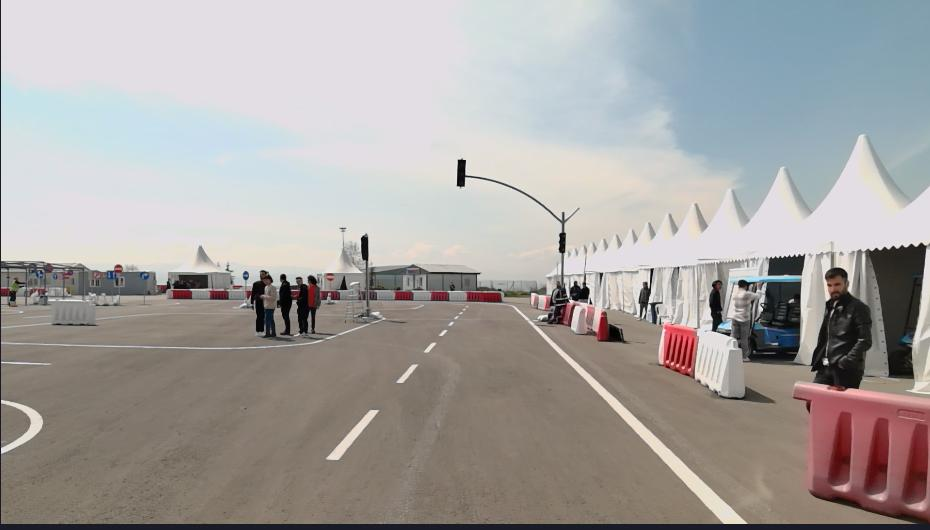nesne: (0, 300, 753, 523), (270, 300, 751, 521), (0, 302, 471, 526), (512, 306, 746, 524), (792, 386, 929, 518), (0, 317, 381, 350), (813, 263, 873, 391), (714, 275, 804, 357), (467, 174, 581, 232), (696, 330, 745, 396), (328, 403, 382, 458), (732, 278, 764, 360), (0, 398, 43, 452), (899, 281, 920, 377), (655, 327, 696, 375), (373, 286, 504, 301), (345, 277, 370, 325), (50, 299, 96, 323), (261, 271, 278, 334), (541, 284, 565, 323), (585, 302, 609, 339), (279, 273, 293, 336), (164, 288, 243, 299), (253, 270, 266, 331), (711, 281, 724, 332), (297, 276, 309, 331), (649, 298, 671, 326), (639, 278, 652, 319), (396, 365, 420, 387), (309, 276, 318, 333), (10, 276, 26, 304), (0, 357, 51, 365), (365, 266, 373, 316), (461, 293, 503, 302), (359, 231, 370, 262), (573, 310, 587, 333), (456, 159, 467, 188), (528, 293, 547, 309), (559, 303, 572, 326), (373, 288, 395, 300), (319, 288, 338, 301), (609, 325, 622, 344), (233, 294, 251, 307), (410, 291, 433, 301), (421, 340, 437, 354), (170, 288, 192, 298), (206, 288, 226, 299), (394, 290, 414, 301), (447, 293, 467, 304), (579, 279, 589, 301), (189, 289, 210, 299), (557, 231, 566, 253), (226, 288, 245, 298), (431, 290, 448, 301), (559, 252, 564, 288), (326, 268, 338, 280), (569, 284, 579, 298), (338, 288, 348, 301), (117, 272, 121, 304), (114, 262, 123, 274), (143, 277, 147, 303), (137, 270, 148, 278), (243, 269, 250, 278), (166, 289, 172, 299), (242, 278, 244, 300)
